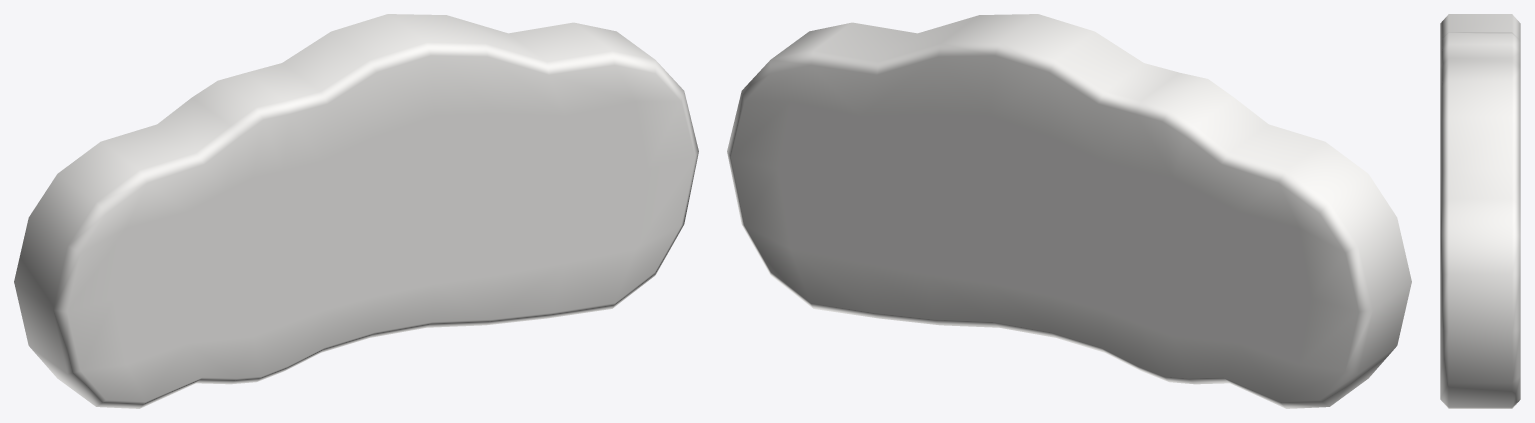
The model's file is Decoration_Cloud_2.glb.
The picture shows the model from 3 angles, left to right: view 1: azimuth 30°, elevation 25°; view 2: azimuth 150°, elevation 25°; view 3: azimuth 270°, elevation 25°; orthographic projection. The views are drawn at different scales.
Parts seen in each view (by area): view 1: Decoration_Cloud_2; view 2: Decoration_Cloud_2; view 3: Decoration_Cloud_2.
Boxes of the visible parts, x1=… form: Decoration_Cloud_2: x1=14, y1=14, x2=698, y2=408; Decoration_Cloud_2: x1=727, y1=14, x2=1411, y2=408; Decoration_Cloud_2: x1=1440, y1=14, x2=1520, y2=408.
Size of the model in its own units: 1.25 by 0.5774 by 0.165.
1 material, 1 textured.
